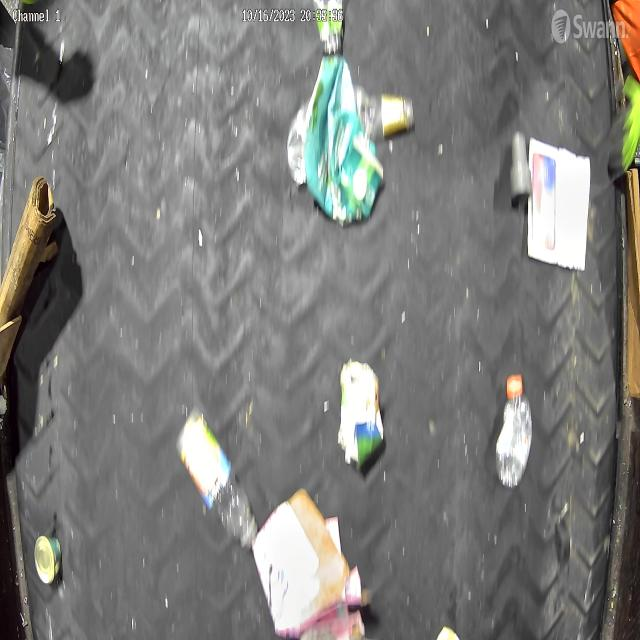can: (33, 533, 63, 586)
plastic_bottle: (176, 404, 259, 549), (494, 373, 532, 487)
